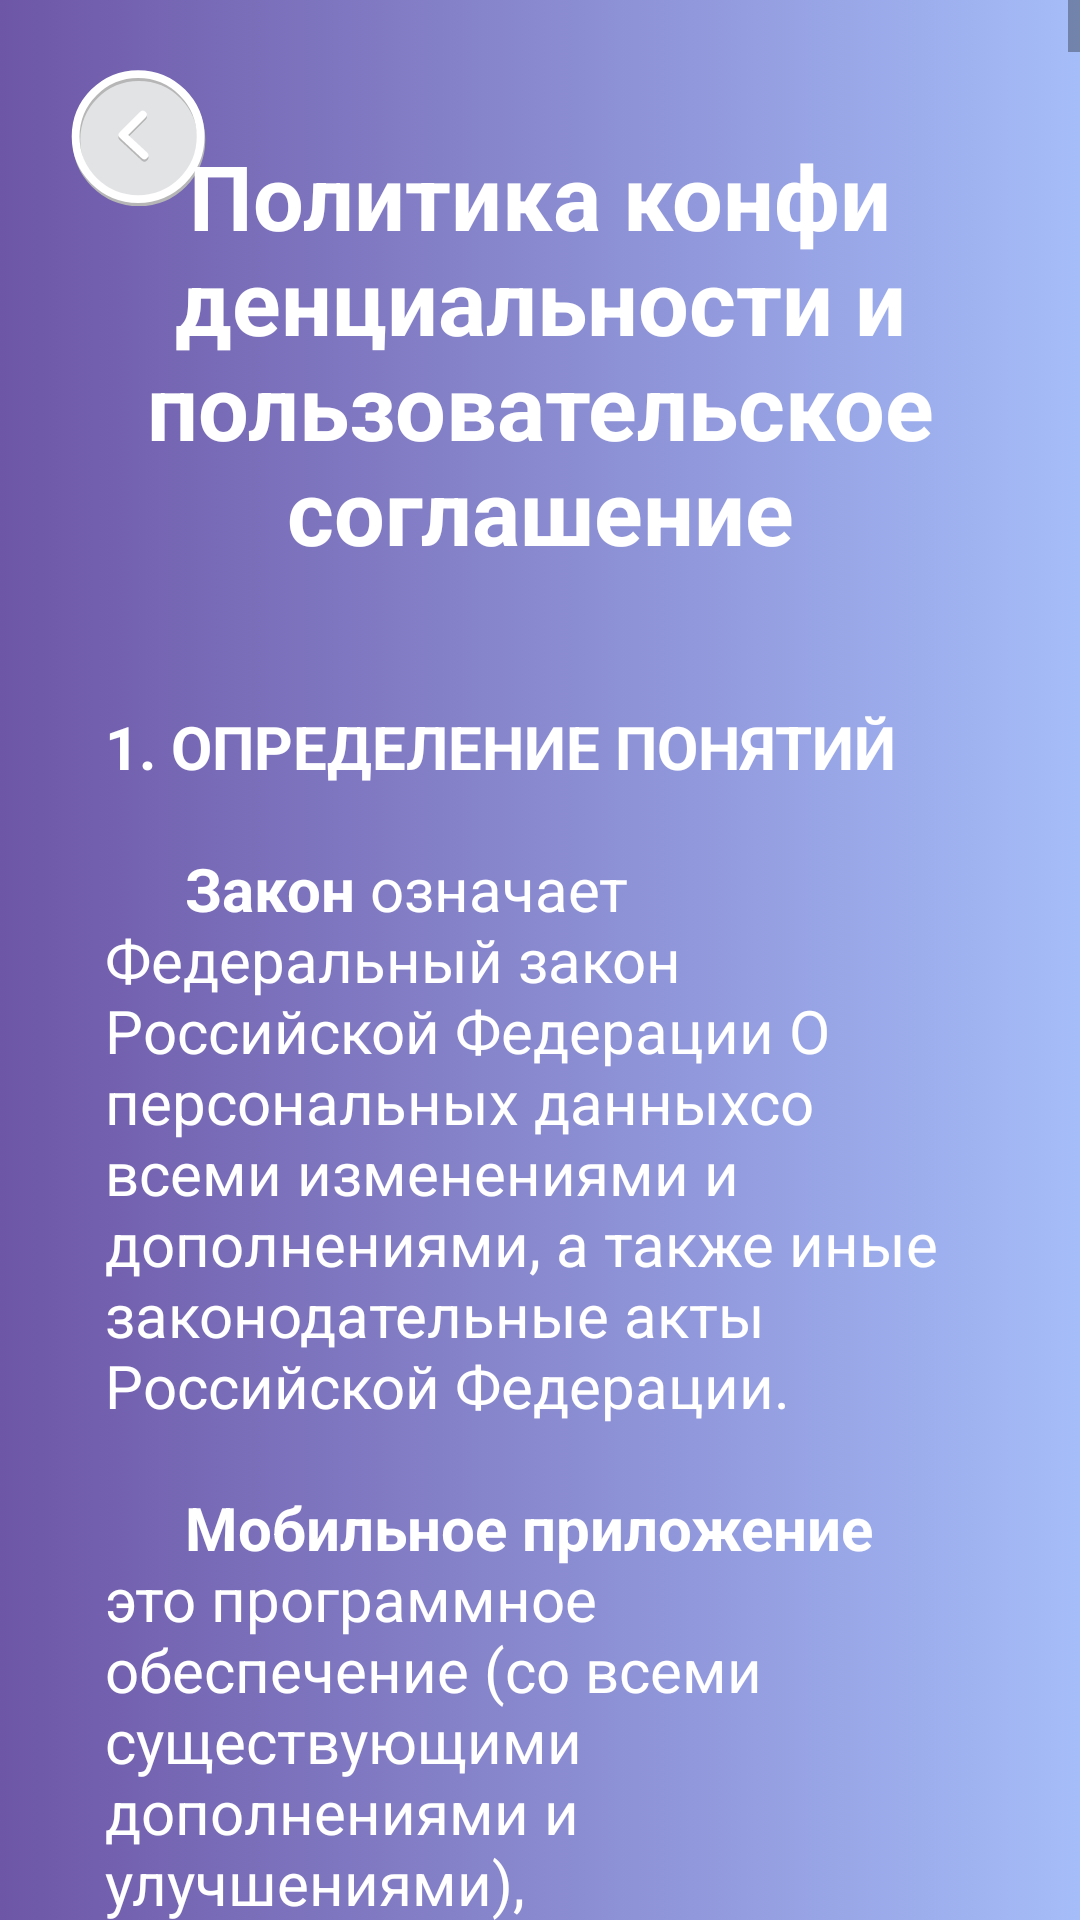

Where icons sit on this 1080px×1920px app screen, as (x1, y1, x2, y2):
arrow five: (71, 70, 210, 210)
